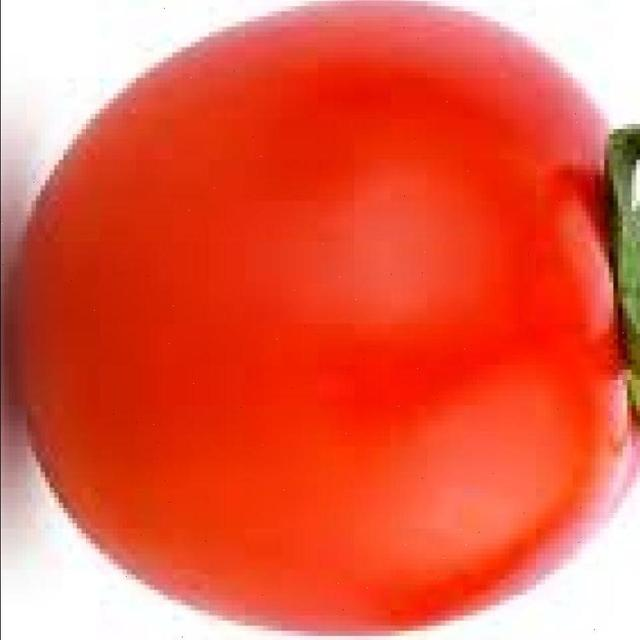Healthy Fruit: (3, 8, 427, 427)
